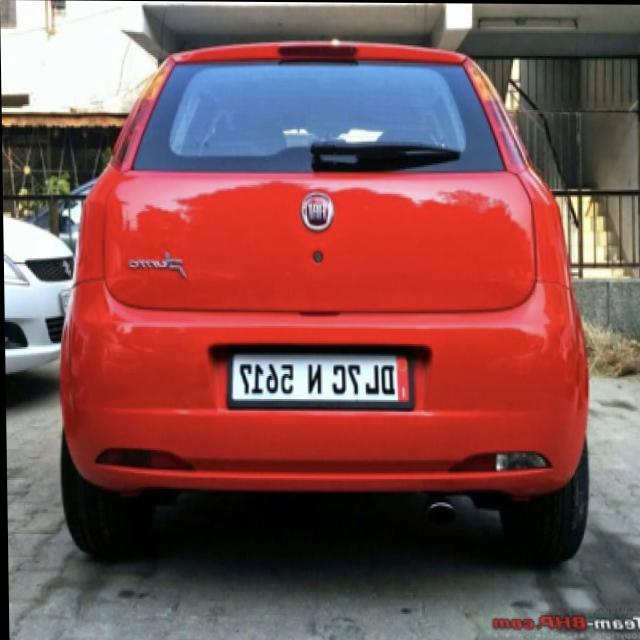licence: (228, 354, 408, 407)
